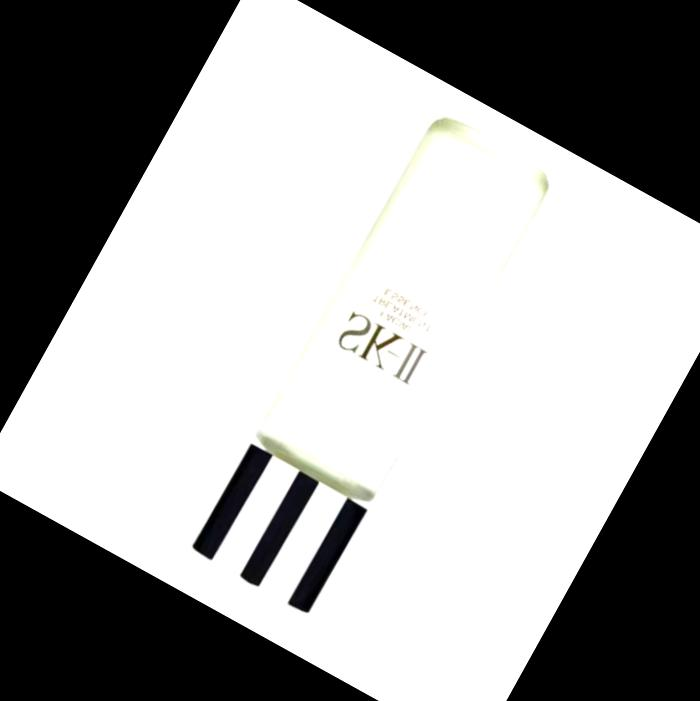cosmetic: (189, 103, 563, 617)
